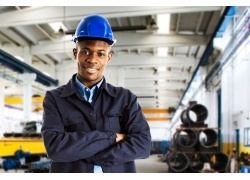blue: (72, 14, 115, 81)
